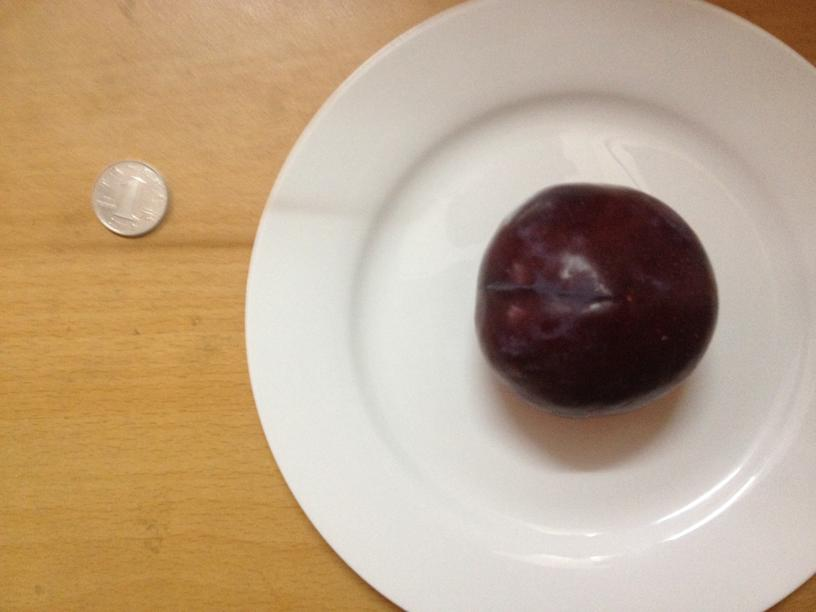coin: (92, 161, 171, 238)
plum: (467, 186, 714, 404)
